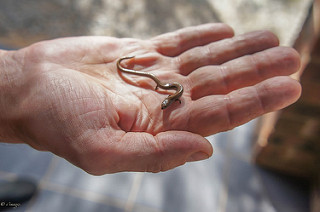palm: (42, 36, 185, 151)
